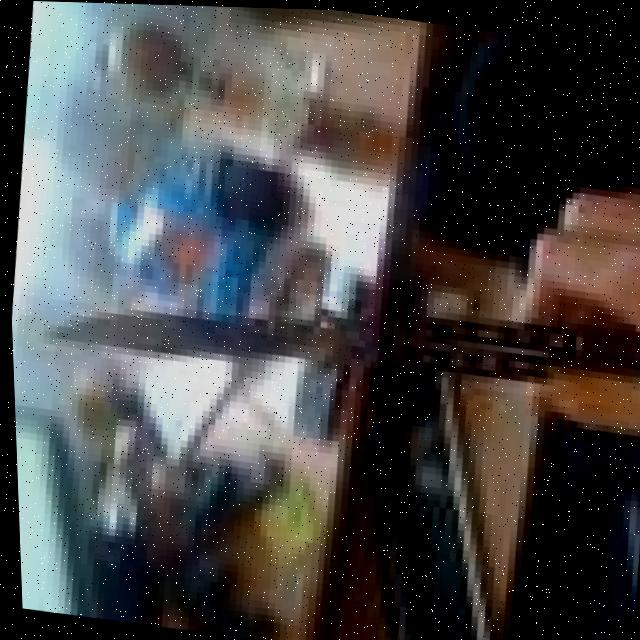knife: (32, 232, 640, 451)
